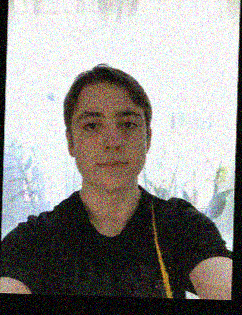without_mask: (71, 107, 148, 192)
